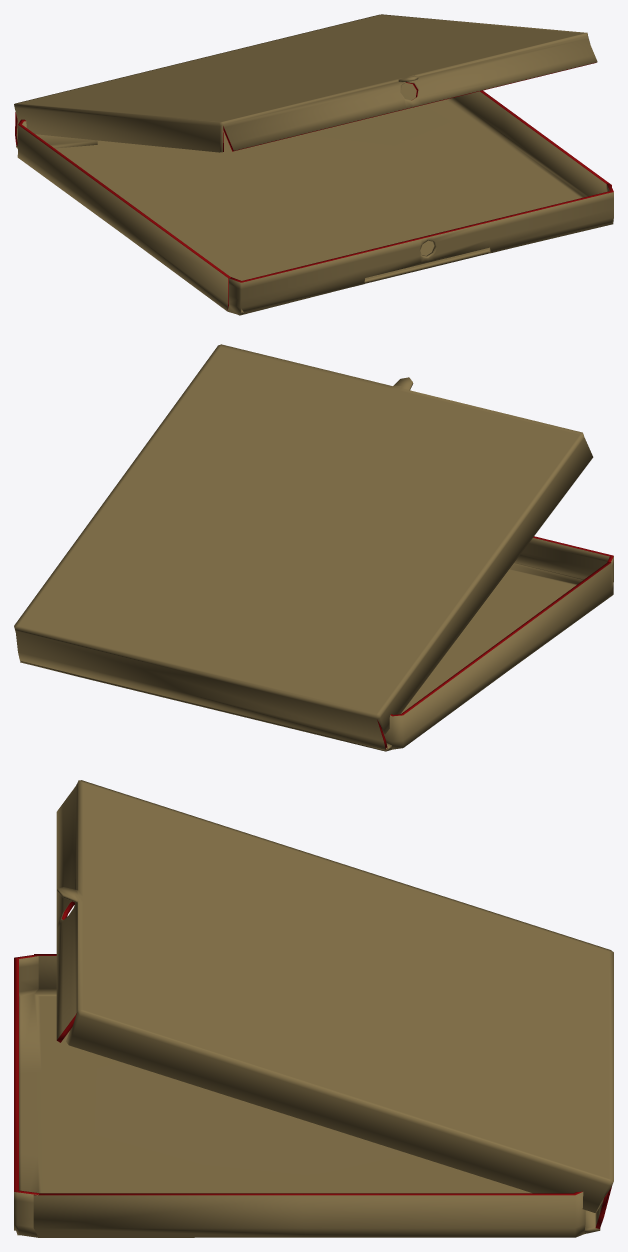
Rendered from Mesh_Pizzabox.fbx.
The picture shows the model from 3 angles, top to bottom: view 1: azimuth 30°, elevation 25°; view 2: azimuth 150°, elevation 25°; view 3: azimuth 270°, elevation 25°; orthographic projection. The views are drawn at different scales.
Visible parts, largest first — view 1: pizzabox_main, Pizzabox_lid; view 2: Pizzabox_lid, pizzabox_main; view 3: Pizzabox_lid, pizzabox_main.
Boxes of the visible parts, bbox=[...] form: pizzabox_main: bbox=[16, 83, 613, 315]; Pizzabox_lid: bbox=[14, 14, 597, 152]; Pizzabox_lid: bbox=[14, 344, 593, 749]; pizzabox_main: bbox=[20, 536, 613, 751]; Pizzabox_lid: bbox=[56, 780, 613, 1228]; pizzabox_main: bbox=[14, 954, 600, 1237].
Size of the model in its own units: 61.25 by 27.23 by 64.02.
